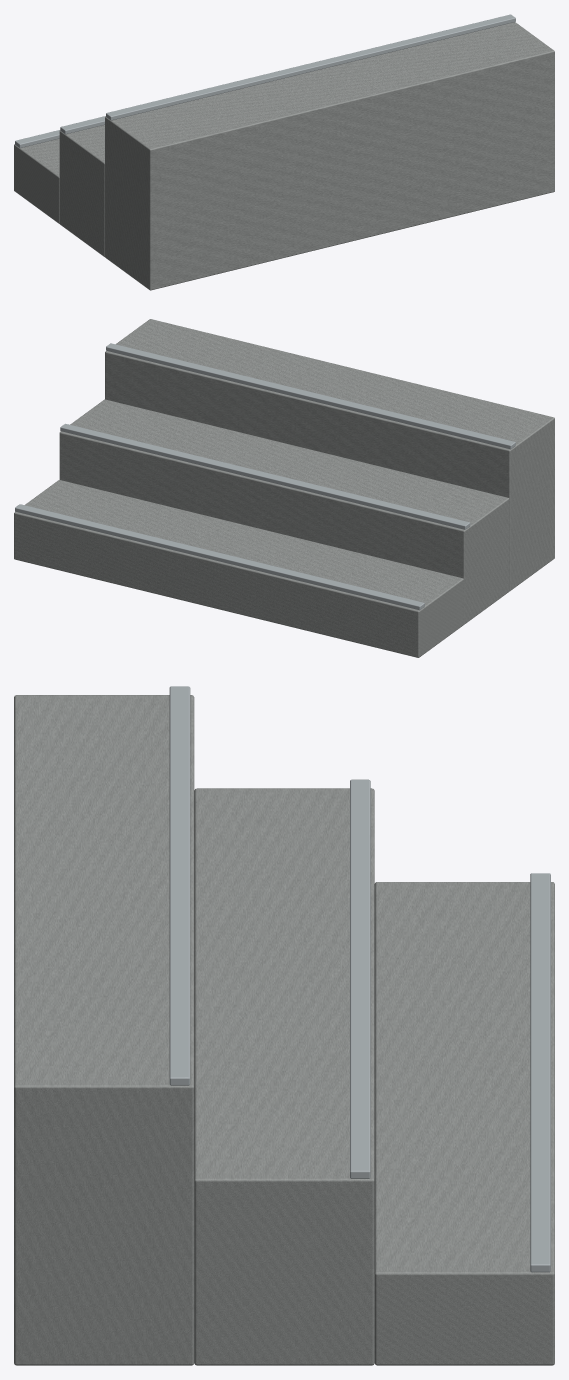
Rendered from liminal-spaces-kit-pool-entry-step-14e3ddde__25207.glb.
The picture shows the model from 3 angles, top to bottom: view 1: azimuth 30°, elevation 25°; view 2: azimuth 150°, elevation 25°; view 3: azimuth 270°, elevation 25°; orthographic projection. The views are drawn at different scales.
Parts seen in each view (by area): view 1: pool-entry-step; view 2: pool-entry-step; view 3: pool-entry-step.
Boxes of the visible parts, x1,y1,x2,y2 form: pool-entry-step: (14, 14, 554, 290); pool-entry-step: (14, 319, 554, 657); pool-entry-step: (14, 686, 554, 1365).
Bounding box in the file's own units: 1.8 × 0.6179 × 1.05.
2 materials, 1 textured.
